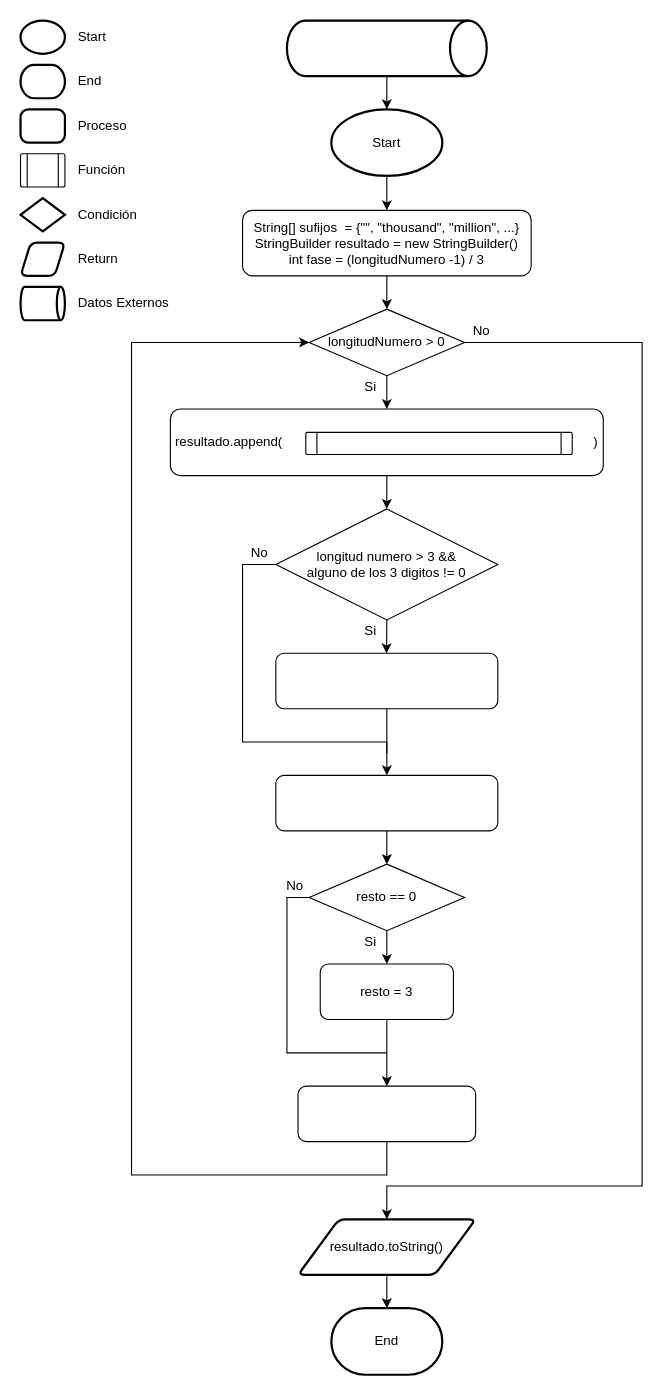
Image size: 670x1394. Some labels were removed from this diagram. Each missing label, with the box of its shape:
fase - - int resto = (longitudNumero % 3): (275, 774, 498, 831)
int longitudNumero int[] array: (285, 19, 487, 77)
longitudNumero -= resto: (297, 1085, 476, 1142)
resultado.append(sufijos[fase]): (275, 652, 498, 709)
sacarCentenas(longitudNumero, array): (305, 431, 572, 455)
